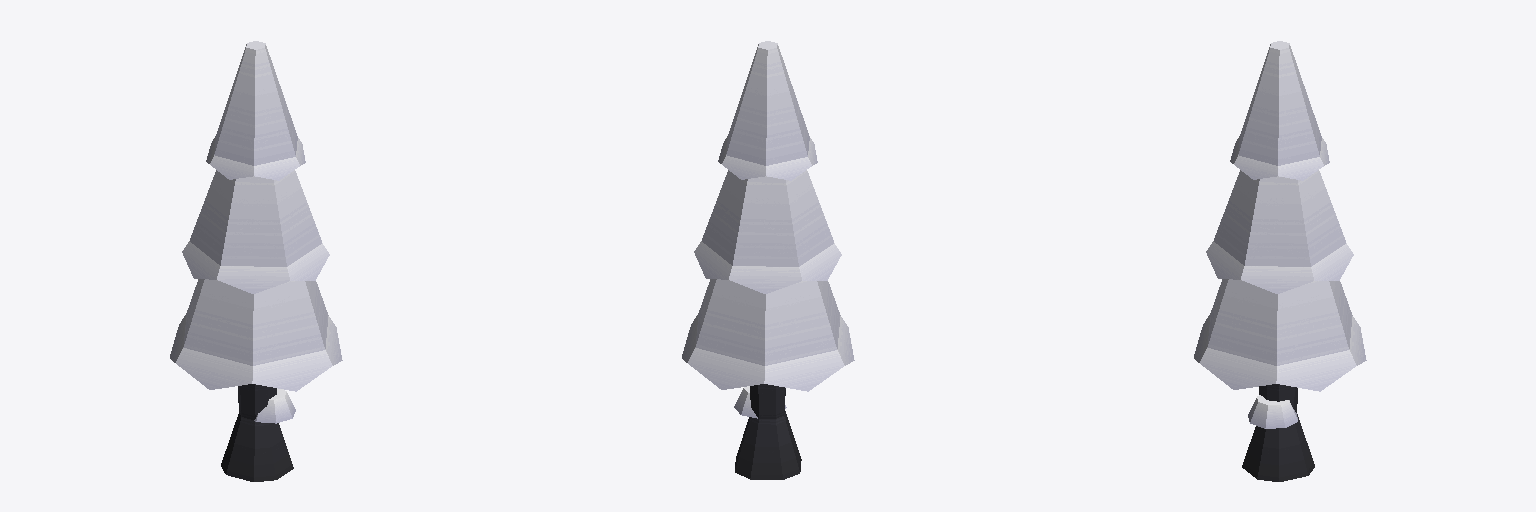
3 views of the same model, side by side, from view 1: azimuth 30°, elevation 25°; view 2: azimuth 150°, elevation 25°; view 3: azimuth 270°, elevation 25° (orthographic).
Visible parts, largest first — view 1: tree.032; view 2: tree.032; view 3: tree.032.
Part boxes in pixels (left/top/right/bottom): tree.032: left=170, top=41, right=342, bottom=481; tree.032: left=682, top=41, right=854, bottom=479; tree.032: left=1194, top=41, right=1366, bottom=481.
Size of the model in its own units: 1.36 by 3.47 by 1.29.
1 materials, 1 textured.